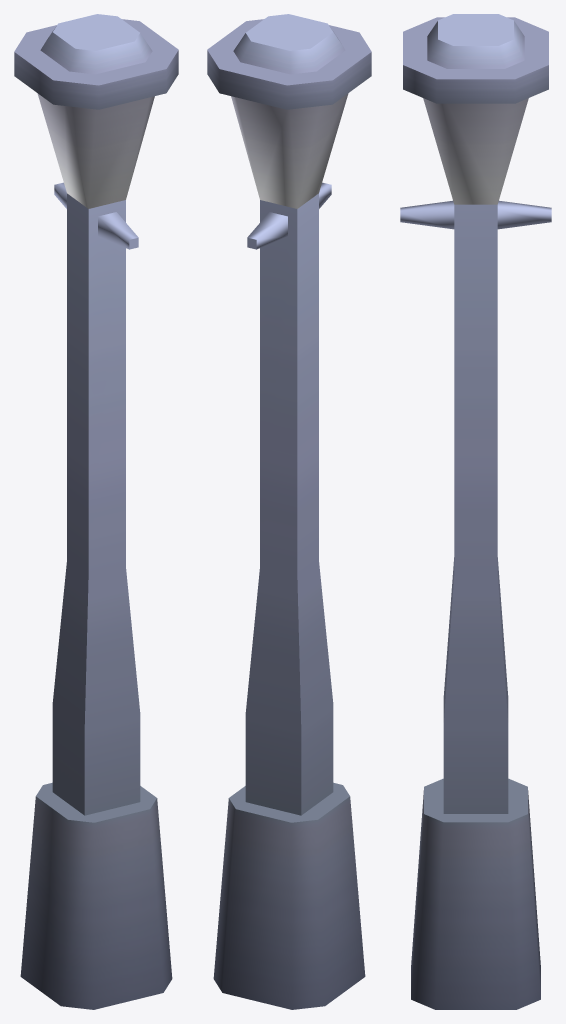
File: ot-lantern.glb
3 renders of one model, left to right at view 1: azimuth 30°, elevation 25°; view 2: azimuth 150°, elevation 25°; view 3: azimuth 270°, elevation 25°, orthographic.
Visible parts, largest first — view 1: lantern; view 2: lantern; view 3: lantern.
Part boxes in pixels (x1=…): lantern: x1=14, y1=14, x2=178, y2=1009; lantern: x1=207, y1=14, x2=371, y2=1009; lantern: x1=400, y1=14, x2=551, y2=1009.
Size of the model in its own units: 0.2163 by 1.56 by 0.2243.
Materials: 1 (1 with a texture image).
